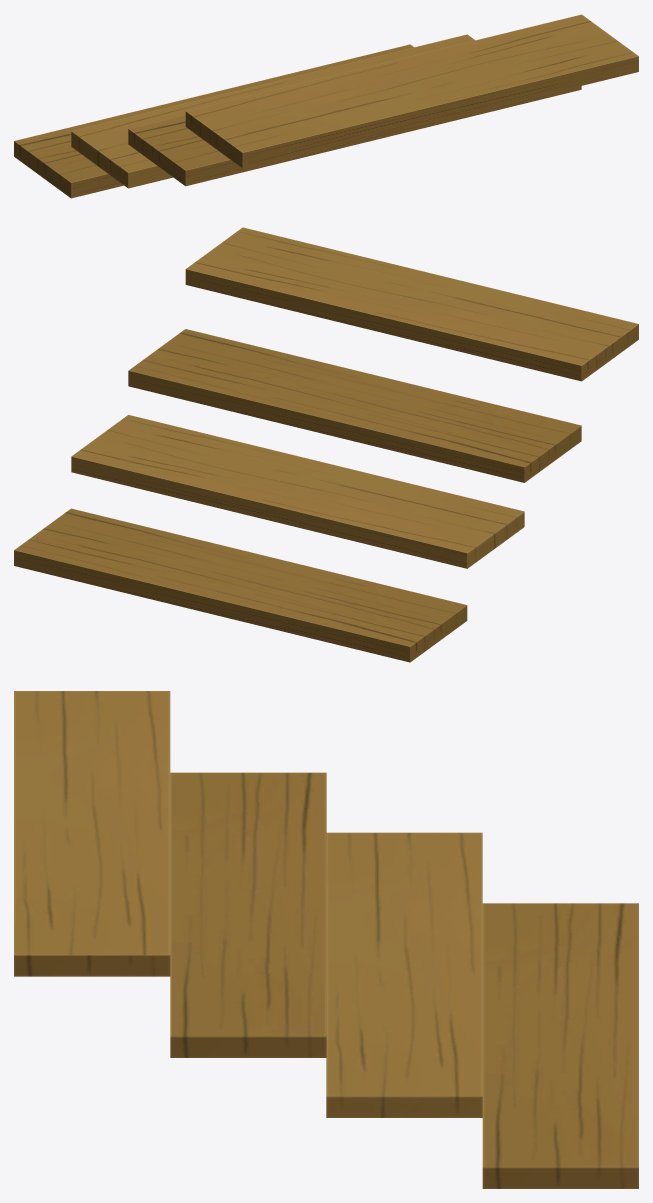
Rendered from Boat_Steps.fbx.
The picture shows the model from 3 angles, top to bottom: view 1: azimuth 30°, elevation 25°; view 2: azimuth 150°, elevation 25°; view 3: azimuth 270°, elevation 25°; orthographic projection. The views are drawn at different scales.
Parts seen in each view (by area): view 1: Boat_Steps; view 2: Boat_Steps; view 3: Boat_Steps.
Part boxes in pixels (x1,y1,x2,y2): Boat_Steps: (14,14,638,198); Boat_Steps: (14,227,638,662); Boat_Steps: (14,691,638,1188).
Bounding box in the file's own units: 2 × 0.8253 × 2.
Materials: 1 (1 with a texture image).
